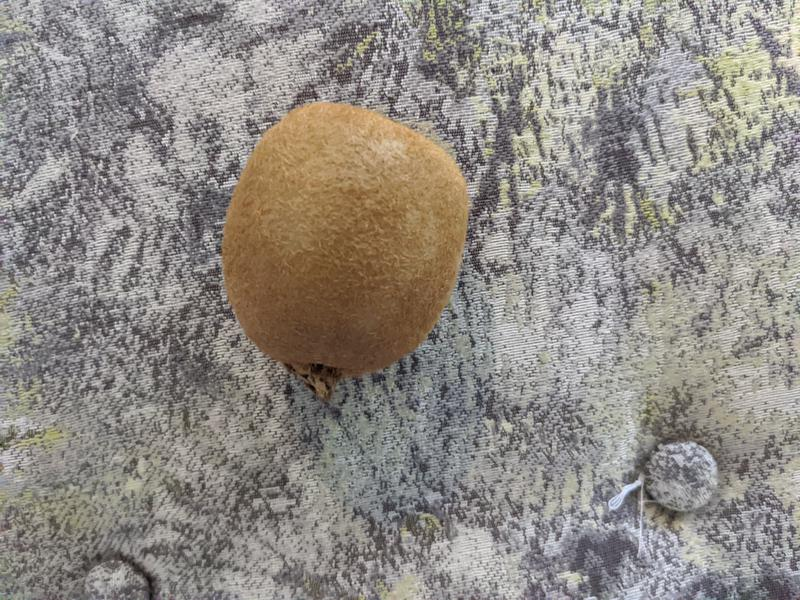kiwi: (220, 97, 469, 379)
